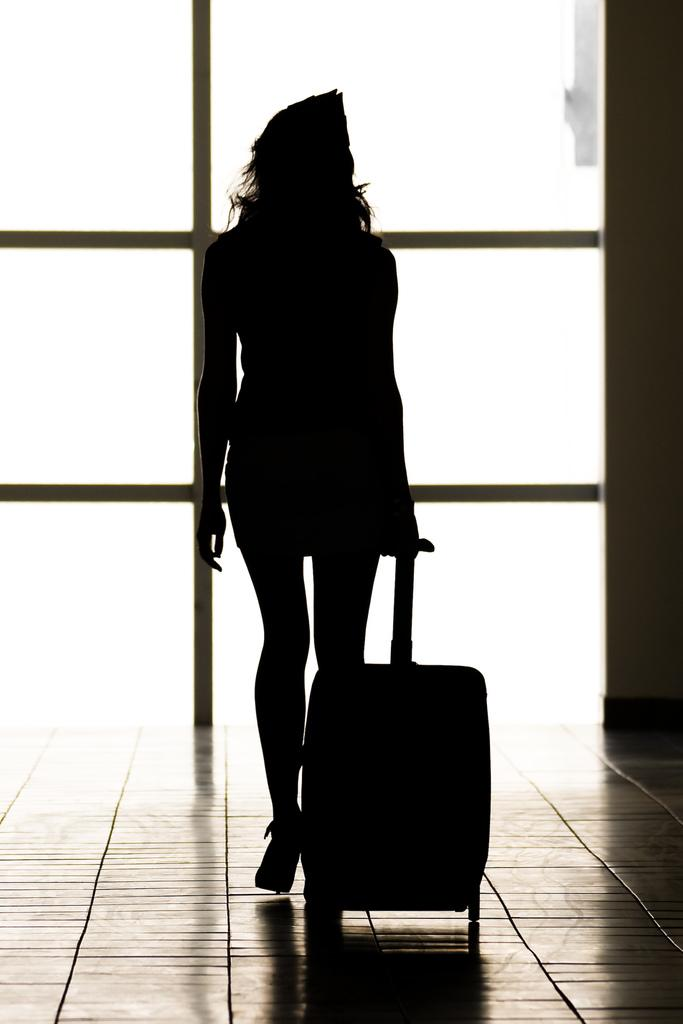Luggage-and-bags: (293, 515, 512, 946)
